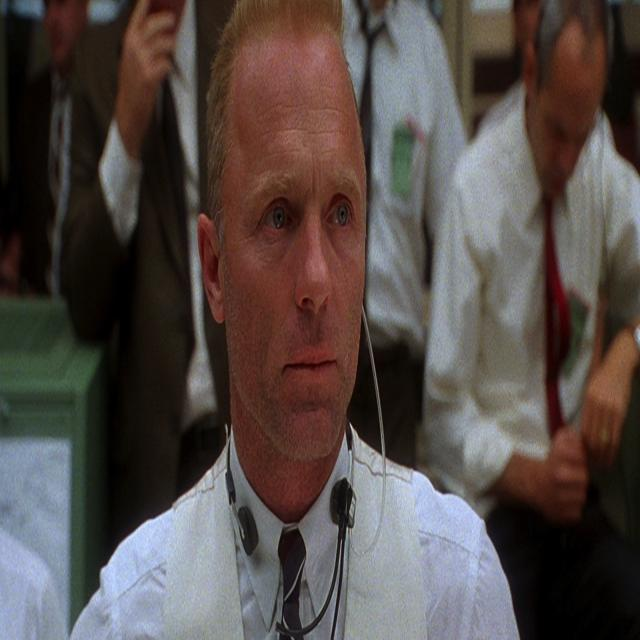no-earmuff: (190, 205, 234, 338), (517, 31, 546, 112)
